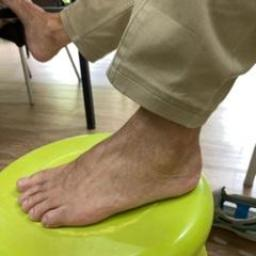Lateral View -Left Foot-: (4, 110, 226, 240)
